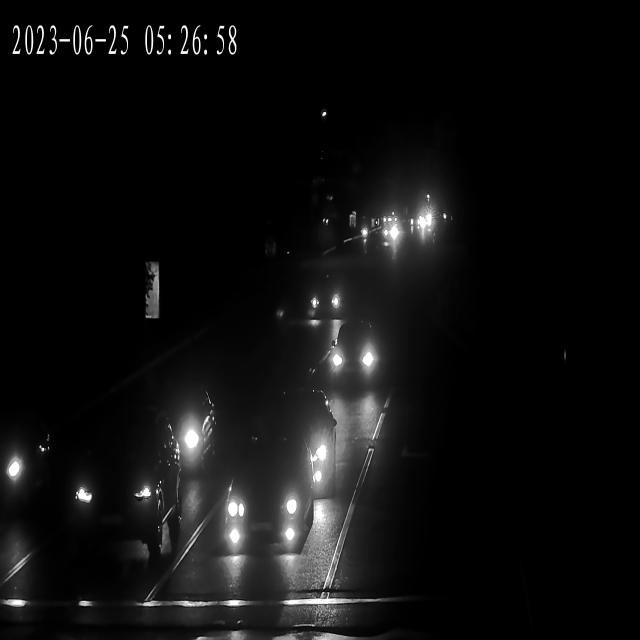Car: (68, 409, 176, 562), (222, 438, 307, 562), (257, 391, 342, 504), (148, 382, 223, 483), (0, 415, 50, 516), (331, 326, 385, 390), (304, 284, 340, 331), (412, 213, 435, 242), (379, 222, 400, 250)
